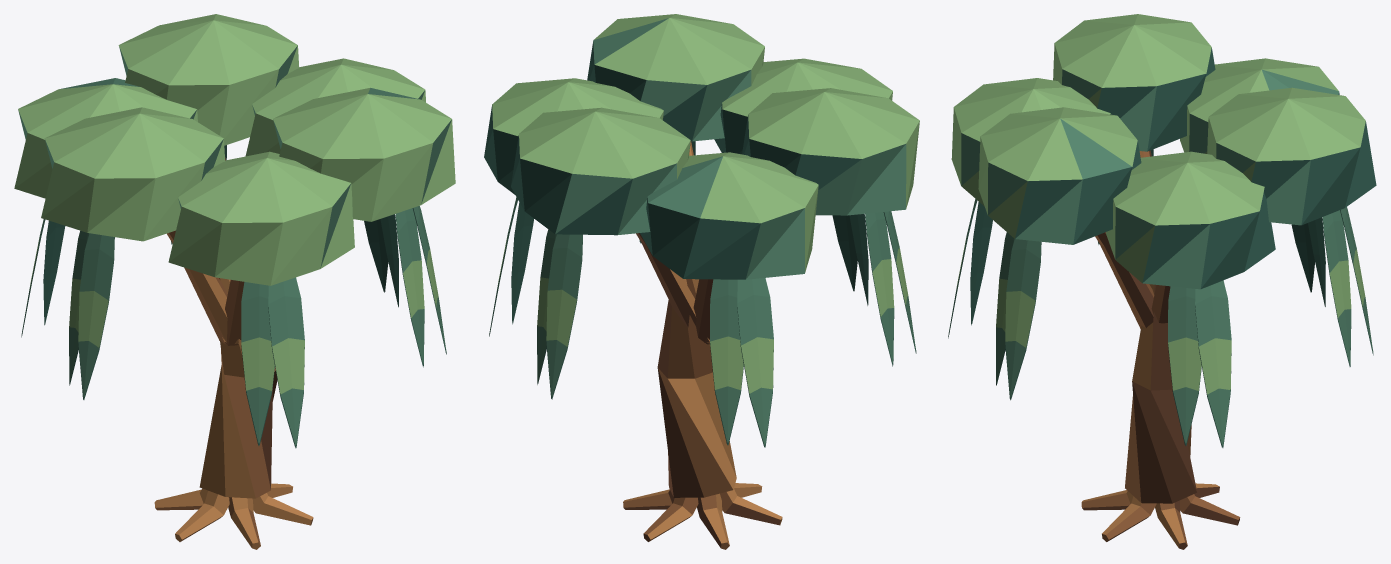
The model's file is SalgueiroPantano.fbx.
3 renders of one model, left to right at view 1: azimuth 30°, elevation 25°; view 2: azimuth 150°, elevation 25°; view 3: azimuth 270°, elevation 25°, orthographic.
Visible parts, largest first — view 1: SalgueiroPantano_Folha_6, SalgueiroPantano_Folha_5, SalgueiroPantano_Solido_2, SalgueiroPantano_Folha_4, SalgueiroPantano_Solido_3, SalgueiroPantano_Solido_1; view 2: SalgueiroPantano_Folha_6, SalgueiroPantano_Folha_5, SalgueiroPantano_Folha_4, SalgueiroPantano_Solido_3, SalgueiroPantano_Solido_1, SalgueiroPantano_Solido_2; view 3: SalgueiroPantano_Folha_6, SalgueiroPantano_Folha_5, SalgueiroPantano_Folha_4, SalgueiroPantano_Solido_1, SalgueiroPantano_Solido_3, SalgueiroPantano_Solido_2.
Boxes of the visible parts, left/top/right/bottom form: SalgueiroPantano_Folha_6: left=14, top=14, right=455, bottom=394; SalgueiroPantano_Folha_5: left=18, top=45, right=451, bottom=445; SalgueiroPantano_Solido_2: left=154, top=269, right=313, bottom=549; SalgueiroPantano_Folha_4: left=21, top=145, right=446, bottom=448; SalgueiroPantano_Solido_3: left=155, top=157, right=313, bottom=545; SalgueiroPantano_Solido_1: left=261, top=371, right=277, bottom=488; SalgueiroPantano_Folha_6: left=492, top=14, right=919, bottom=393; SalgueiroPantano_Folha_5: left=489, top=18, right=916, bottom=445; SalgueiroPantano_Folha_4: left=484, top=41, right=916, bottom=447; SalgueiroPantano_Solido_3: left=623, top=279, right=732, bottom=549; SalgueiroPantano_Solido_1: left=624, top=233, right=780, bottom=547; SalgueiroPantano_Solido_2: left=623, top=141, right=782, bottom=545; SalgueiroPantano_Folha_6: left=951, top=14, right=1365, bottom=394; SalgueiroPantano_Folha_5: left=948, top=69, right=1373, bottom=445; SalgueiroPantano_Folha_4: left=948, top=47, right=1376, bottom=447; SalgueiroPantano_Solido_1: left=1082, top=150, right=1239, bottom=549; SalgueiroPantano_Solido_3: left=1081, top=151, right=1239, bottom=545; SalgueiroPantano_Solido_2: left=1082, top=151, right=1219, bottom=547.
Size of the model in its own units: 1257 by 1338 by 1179.
